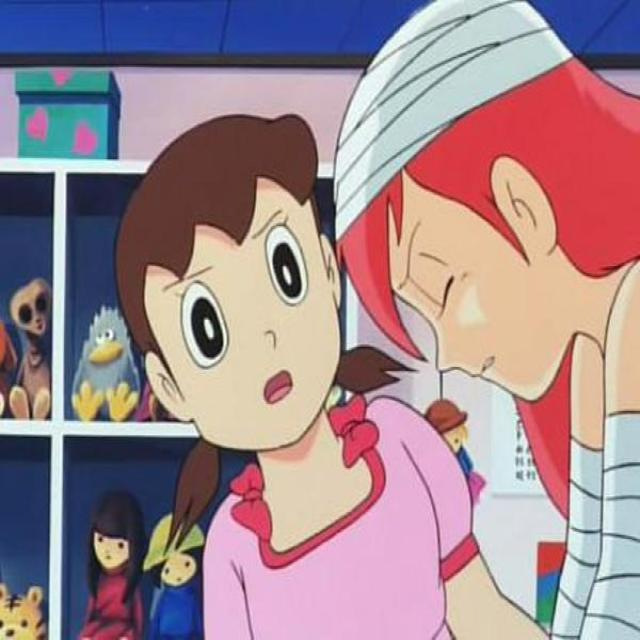shizuka: (113, 108, 404, 514)
